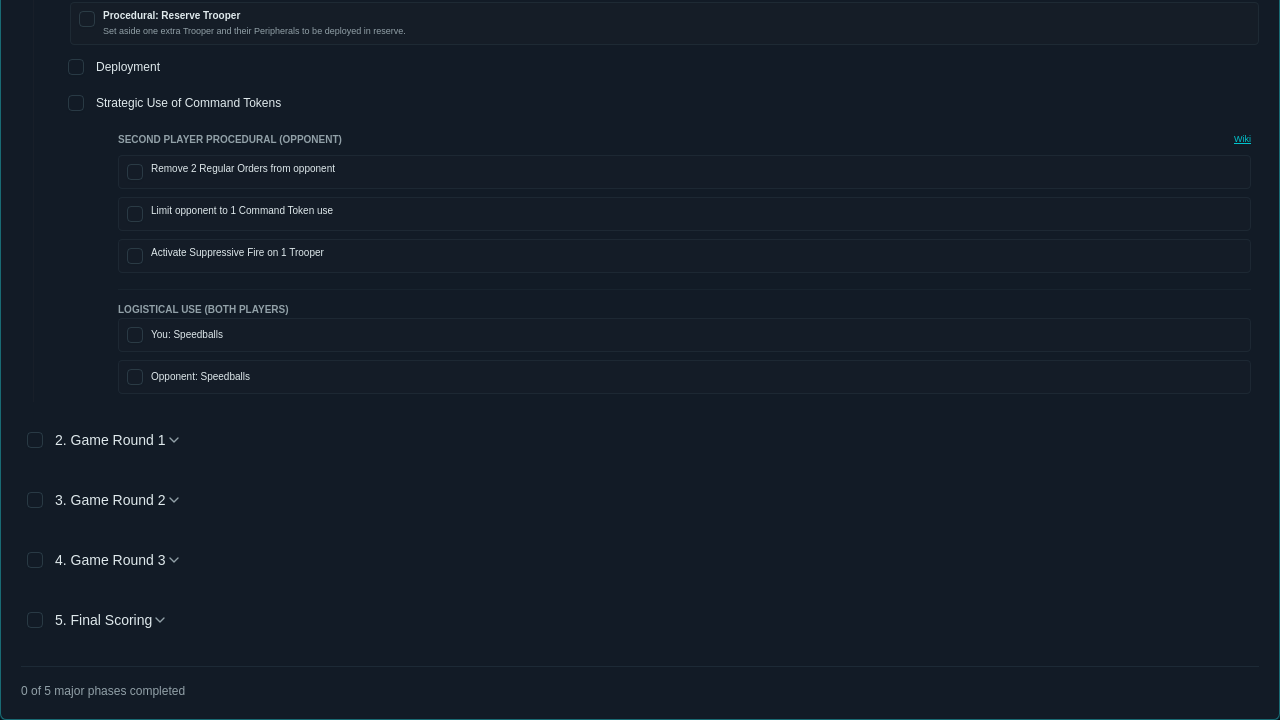
Test case: ContextualHints Component › shows different final scoring objectives for attacker and defender roles
The image size is (1280, 720).
(page scrolled)
Click the button "5. Final Scoring" at (112, 620), box [55,606,168,634]
(page scrolled)
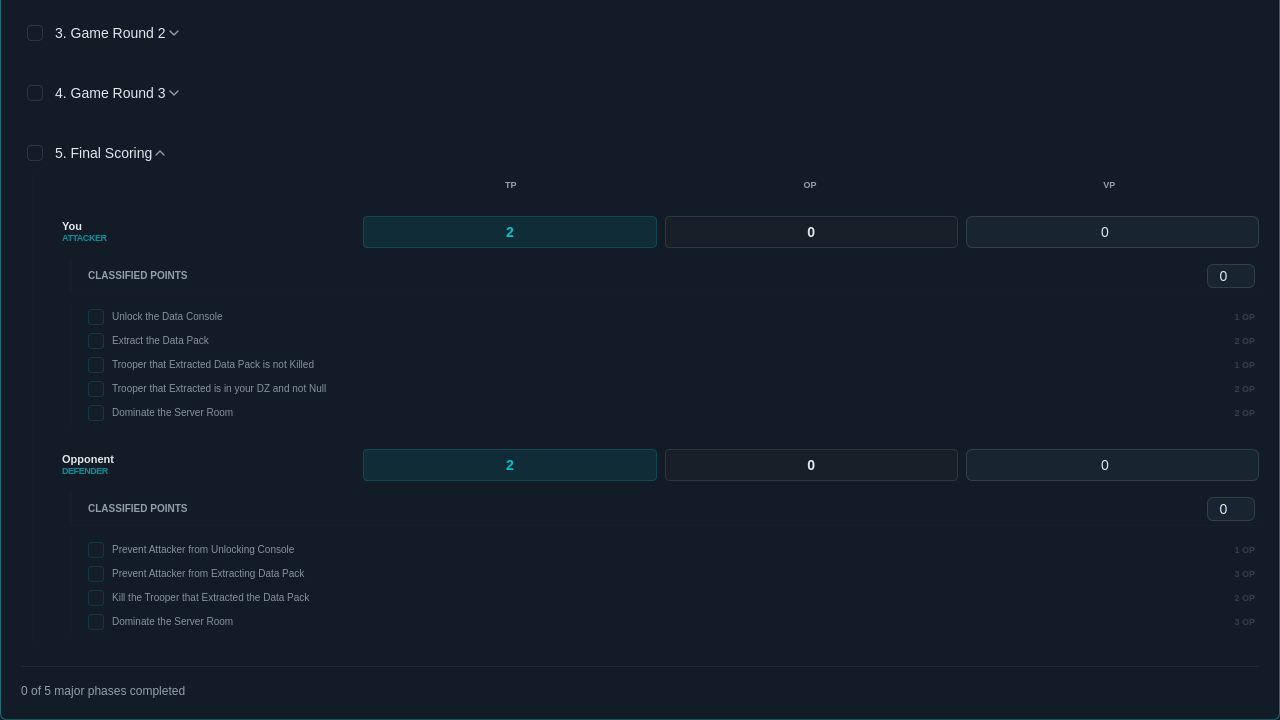
Expected: the text "attacker" is shown, [62,233,107,243]
Expected: the text "defender" is shown, [62,466,108,476]
Expected: the text "Unlock the Data Console" is shown, [112,311,223,323]
